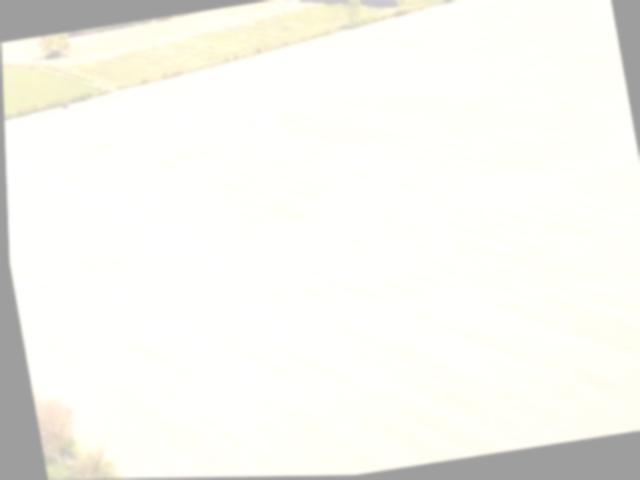iha: (218, 103, 283, 137)
